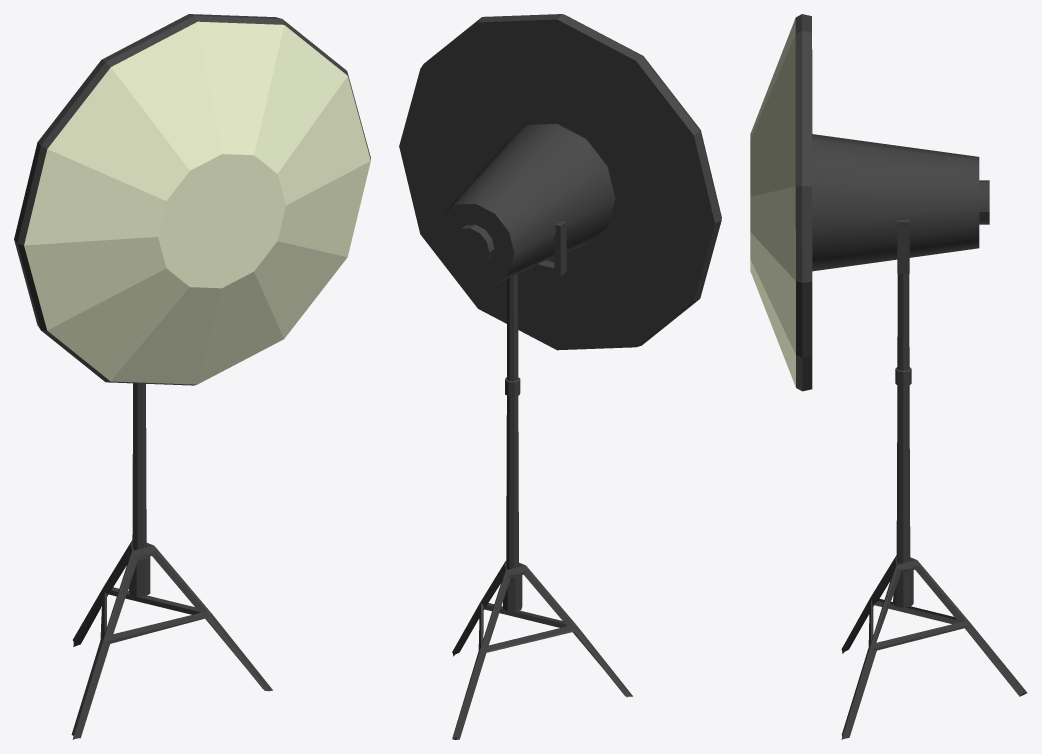
The model's file is Diffuse.fbx.
3 renders of one model, left to right at view 1: azimuth 30°, elevation 25°; view 2: azimuth 150°, elevation 25°; view 3: azimuth 270°, elevation 25°, orthographic. The views are drawn at different scales.
Visible parts, largest first — view 1: Diffuse, Lower Stand Diffuse; view 2: Diffuse, Lower Stand Diffuse, Upper stand Diffuse; view 3: Diffuse, Lower Stand Diffuse, Upper stand Diffuse.
Boxes of the visible parts, left/top/right/bottom form: Diffuse: left=14, top=14, right=370, bottom=385; Lower Stand Diffuse: left=71, top=383, right=272, bottom=739; Diffuse: left=399, top=14, right=721, bottom=350; Lower Stand Diffuse: left=452, top=377, right=632, bottom=739; Upper stand Diffuse: left=507, top=221, right=566, bottom=412; Diffuse: left=750, top=14, right=989, bottom=391; Lower Stand Diffuse: left=841, top=367, right=1027, bottom=739; Upper stand Diffuse: left=897, top=219, right=909, bottom=403.
Bounding box in the file's own units: 143 × 278 × 105.
